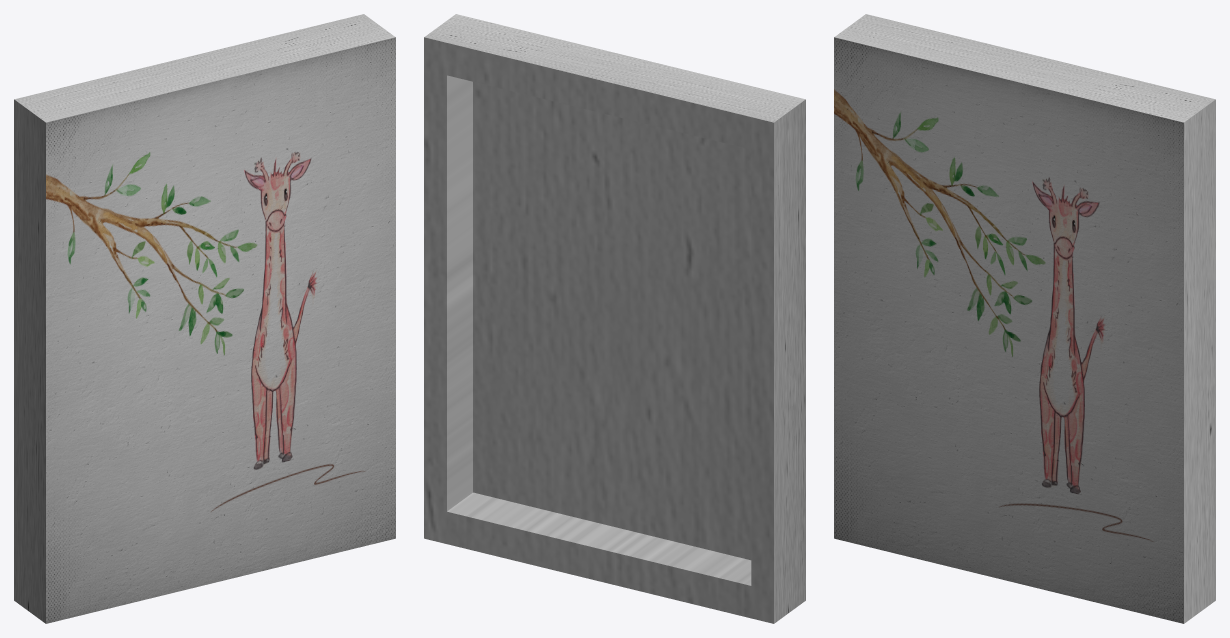
Rendered from Painting 6.fbx.
3 views of the same model, side by side, from view 1: azimuth 30°, elevation 25°; view 2: azimuth 150°, elevation 25°; view 3: azimuth 330°, elevation 25° (orthographic).
Parts seen in each view (by area): view 1: Cube; view 2: Cube; view 3: Cube.
Part boxes in pixels (x1,y1,x2,y2): Cube: (14,14,395,623); Cube: (424,14,805,623); Cube: (834,14,1215,623).
Size of the model in its own units: 0.7093 by 0.9713 by 0.1118.
